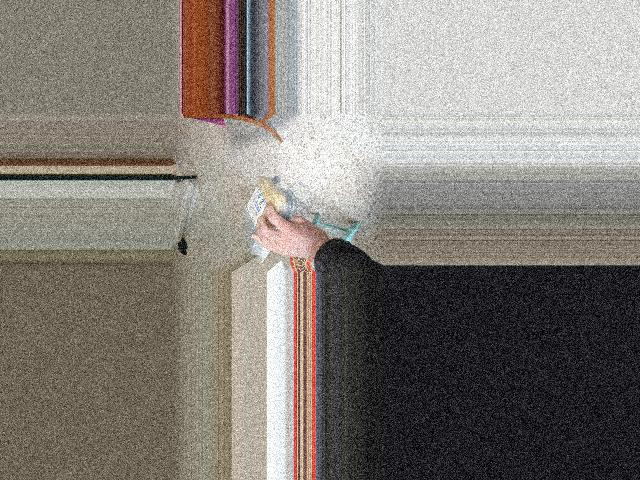cheese: (244, 176, 287, 262)
